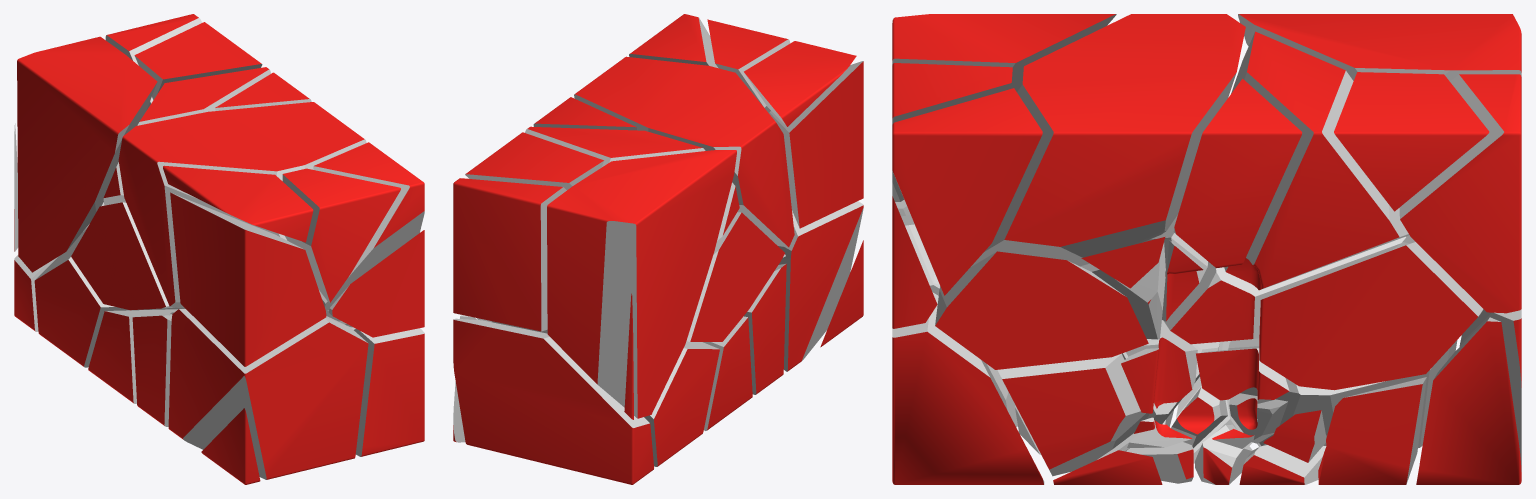
Rendered from Structure_Tower_Knight_Human_02_Destroyed_debris_cells_main_structure_01.fbx.
3 views of the same model, side by side, from view 1: azimuth 30°, elevation 25°; view 2: azimuth 150°, elevation 25°; view 3: azimuth 270°, elevation 25° (orthographic). The views are drawn at different scales.
Parts seen in each view (by area): view 1: Structure_Tower_Knight_Human_02.001_cell.005, Structure_Tower_Knight_Human_02.001_cell.041, Structure_Tower_Knight_Human_02.001_cell.037, Structure_Tower_Knight_Human_02.001_cell.009, Structure_Tower_Knight_Human_02.001_cell.033, Structure_Tower_Knight_Human_02.001_cell.020, Structure_Tower_Knight_Human_02.001_cell.026, Structure_Tower_Knight_Human_02.001_cell.013, Structure_Tower_Knight_Human_02.001_cell.011, Structure_Tower_Knight_Human_02.001_cell.003, Structure_Tower_Knight_Human_02.001_cell.010, Structure_Tower_Knight_Human_02.001_cell.006 (+8 smaller); view 2: Structure_Tower_Knight_Human_02.001_cell.041, Structure_Tower_Knight_Human_02.001_cell.015, Structure_Tower_Knight_Human_02.001_cell.037, Structure_Tower_Knight_Human_02.001_cell.030, Structure_Tower_Knight_Human_02.001_cell.009, Structure_Tower_Knight_Human_02.001_cell.005, Structure_Tower_Knight_Human_02.001_cell.026, Structure_Tower_Knight_Human_02.001_cell.010, Structure_Tower_Knight_Human_02.001_cell.011, Structure_Tower_Knight_Human_02.001_cell.006, Structure_Tower_Knight_Human_02.001_cell.045, Structure_Tower_Knight_Human_02.001_cell.017 (+7 smaller); view 3: Structure_Tower_Knight_Human_02.001_cell.037, Structure_Tower_Knight_Human_02.001_cell.042, Structure_Tower_Knight_Human_02.001_cell.045, Structure_Tower_Knight_Human_02.001_cell.003, Structure_Tower_Knight_Human_02.001_cell.030, Structure_Tower_Knight_Human_02.001_cell.039, Structure_Tower_Knight_Human_02.001_cell.020, Structure_Tower_Knight_Human_02.001_cell.041, Structure_Tower_Knight_Human_02.001_cell.007, Structure_Tower_Knight_Human_02.001_cell.006, Structure_Tower_Knight_Human_02.001_cell.022, Structure_Tower_Knight_Human_02.001_cell.038 (+25 smaller).
Boxes of the visible parts, x1,y1,x2,y2 form: Structure_Tower_Knight_Human_02.001_cell.005: (168,309,368,479); Structure_Tower_Knight_Human_02.001_cell.041: (17,36,157,272); Structure_Tower_Knight_Human_02.001_cell.037: (118,102,366,321); Structure_Tower_Knight_Human_02.001_cell.009: (170,192,326,366); Structure_Tower_Knight_Human_02.001_cell.033: (282,168,400,302); Structure_Tower_Knight_Human_02.001_cell.020: (354,328,424,456); Structure_Tower_Knight_Human_02.001_cell.026: (71,202,174,310); Structure_Tower_Knight_Human_02.001_cell.013: (329,230,424,337); Structure_Tower_Knight_Human_02.001_cell.011: (163,165,313,242); Structure_Tower_Knight_Human_02.001_cell.003: (313,142,424,310); Structure_Tower_Knight_Human_02.001_cell.010: (34,227,184,367); Structure_Tower_Knight_Human_02.001_cell.006: (134,22,262,99); Structure_Tower_Knight_Human_02.001_cell.041: (547,150,736,418); Structure_Tower_Knight_Human_02.001_cell.015: (453,318,653,484); Structure_Tower_Knight_Human_02.001_cell.037: (574,56,794,247); Structure_Tower_Knight_Human_02.001_cell.030: (453,178,566,331); Structure_Tower_Knight_Human_02.001_cell.009: (769,61,863,228); Structure_Tower_Knight_Human_02.001_cell.005: (778,201,863,371); Structure_Tower_Knight_Human_02.001_cell.026: (686,212,784,341); Structure_Tower_Knight_Human_02.001_cell.010: (644,341,719,466); Structure_Tower_Knight_Human_02.001_cell.011: (744,41,856,126); Structure_Tower_Knight_Human_02.001_cell.006: (465,132,604,189); Structure_Tower_Knight_Human_02.001_cell.045: (525,126,739,240); Structure_Tower_Knight_Human_02.001_cell.017: (744,263,786,394); Structure_Tower_Knight_Human_02.001_cell.037: (971,14,1245,266); Structure_Tower_Knight_Human_02.001_cell.042: (1259,242,1483,390); Structure_Tower_Knight_Human_02.001_cell.045: (1224,31,1409,290); Structure_Tower_Knight_Human_02.001_cell.003: (892,88,1042,295); Structure_Tower_Knight_Human_02.001_cell.030: (1399,74,1521,313); Structure_Tower_Knight_Human_02.001_cell.039: (935,251,1148,369); Structure_Tower_Knight_Human_02.001_cell.020: (892,292,1044,484); Structure_Tower_Knight_Human_02.001_cell.041: (1238,14,1521,243); Structure_Tower_Knight_Human_02.001_cell.007: (1173,78,1302,268); Structure_Tower_Knight_Human_02.001_cell.006: (1334,72,1489,211); Structure_Tower_Knight_Human_02.001_cell.022: (1416,317,1521,484); Structure_Tower_Knight_Human_02.001_cell.038: (997,353,1148,476).
Bounding box in the file's own units: 291 × 401 × 648.
